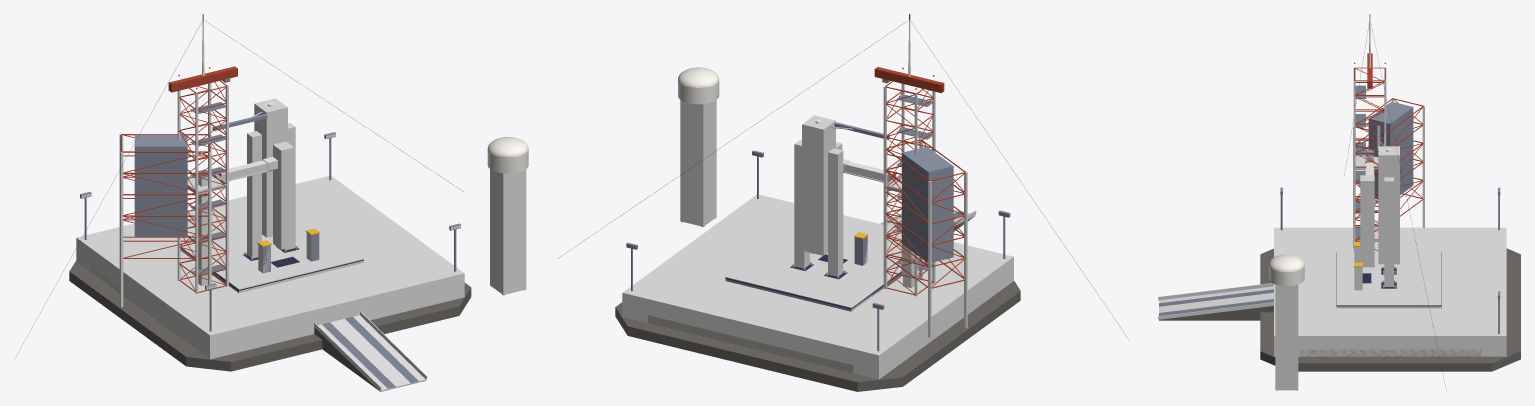
The model's file is PlataformaLancamento.fbx.
3 renders of one model, left to right at view 1: azimuth 30°, elevation 25°; view 2: azimuth 150°, elevation 25°; view 3: azimuth 270°, elevation 25°, orthographic. The views are drawn at different scales.
Visible parts, largest first — view 1: ZONA_Plataforma, Plataforma_Base, Plataforma_EstruturaRotativa, COL_MLP, Plataforma_Torre, COL_CaixaAgua, COL_Deck, COL_Rampa, COL_Orbitador, COL_Tanque, COL_Booster_-1, COL_FSS_Pilar_7_276 (+4 smaller); view 2: ZONA_Plataforma, Plataforma_Base, Plataforma_EstruturaRotativa, COL_MLP, COL_CaixaAgua, Plataforma_Torre, COL_Tanque, COL_Booster_-1, COL_Deck, COL_Booster_1, COL_RSS_0, COL_RSS_1 (+1 smaller); view 3: ZONA_Plataforma, Plataforma_Base, COL_MLP, Plataforma_EstruturaRotativa, COL_CaixaAgua, Plataforma_Torre, COL_Tanque, COL_Deck, COL_Orbitador, COL_Rampa, COL_Booster_1, COL_FSS_Pilar_19_276 (+3 smaller).
Boxes of the visible parts, x1=… form: ZONA_Plataforma: x1=76, y1=176, x2=464, y2=351; Plataforma_Base: x1=69, y1=132, x2=528, y2=390; Plataforma_EstruturaRotativa: x1=121, y1=134, x2=210, y2=258; COL_MLP: x1=180, y1=214, x2=363, y2=292; Plataforma_Torre: x1=15, y1=14, x2=463, y2=357; COL_CaixaAgua: x1=490, y1=169, x2=526, y2=294; COL_Deck: x1=76, y1=254, x2=464, y2=359; COL_Rampa: x1=314, y1=315, x2=426, y2=391; COL_Orbitador: x1=273, y1=141, x2=294, y2=249; COL_Tanque: x1=254, y1=98, x2=287, y2=237; COL_Booster_-1: x1=247, y1=131, x2=261, y2=258; COL_FSS_Pilar_7_276: x1=195, y1=93, x2=198, y2=293; ZONA_Plataforma: x1=622, y1=194, x2=1013, y2=371; Plataforma_Base: x1=615, y1=67, x2=1020, y2=391; Plataforma_EstruturaRotativa: x1=885, y1=139, x2=965, y2=288; COL_MLP: x1=726, y1=232, x2=901, y2=311; COL_CaixaAgua: x1=680, y1=100, x2=716, y2=226; Plataforma_Torre: x1=557, y1=14, x2=1129, y2=340; COL_Tanque: x1=802, y1=115, x2=835, y2=255; COL_Booster_-1: x1=828, y1=148, x2=843, y2=276; COL_Deck: x1=622, y1=273, x2=1013, y2=379; COL_Booster_1: x1=794, y1=140, x2=809, y2=268; COL_RSS_0: x1=883, y1=149, x2=887, y2=288; COL_RSS_1: x1=928, y1=181, x2=931, y2=337; ZONA_Plataforma: x1=1274, y1=227, x2=1506, y2=349; Plataforma_Base: x1=1159, y1=187, x2=1520, y2=390; COL_MLP: x1=1336, y1=252, x2=1441, y2=308; Plataforma_EstruturaRotativa: x1=1355, y1=98, x2=1423, y2=224; COL_CaixaAgua: x1=1275, y1=284, x2=1298, y2=390; Plataforma_Torre: x1=1344, y1=14, x2=1446, y2=389; COL_Tanque: x1=1378, y1=146, x2=1399, y2=264; COL_Deck: x1=1274, y1=349, x2=1506, y2=356; COL_Orbitador: x1=1360, y1=175, x2=1374, y2=267; COL_Rampa: x1=1159, y1=286, x2=1273, y2=312; COL_Booster_1: x1=1384, y1=177, x2=1393, y2=286; COL_FSS_Pilar_19_276: x1=1353, y1=81, x2=1355, y2=251.
Size of the model in its own units: 20004 by 11362 by 14186.
